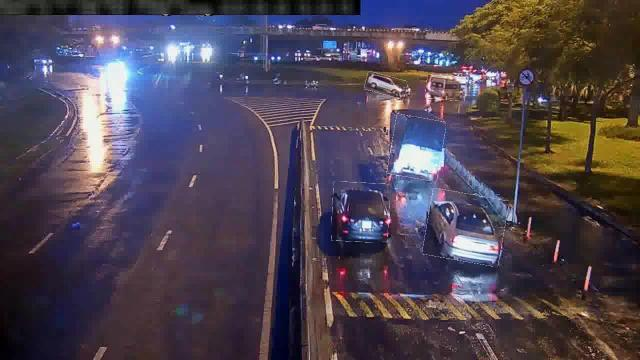Bus: (390, 116, 444, 180), (426, 75, 466, 100)
Car: (425, 192, 507, 264), (332, 182, 390, 242), (365, 74, 407, 96)
